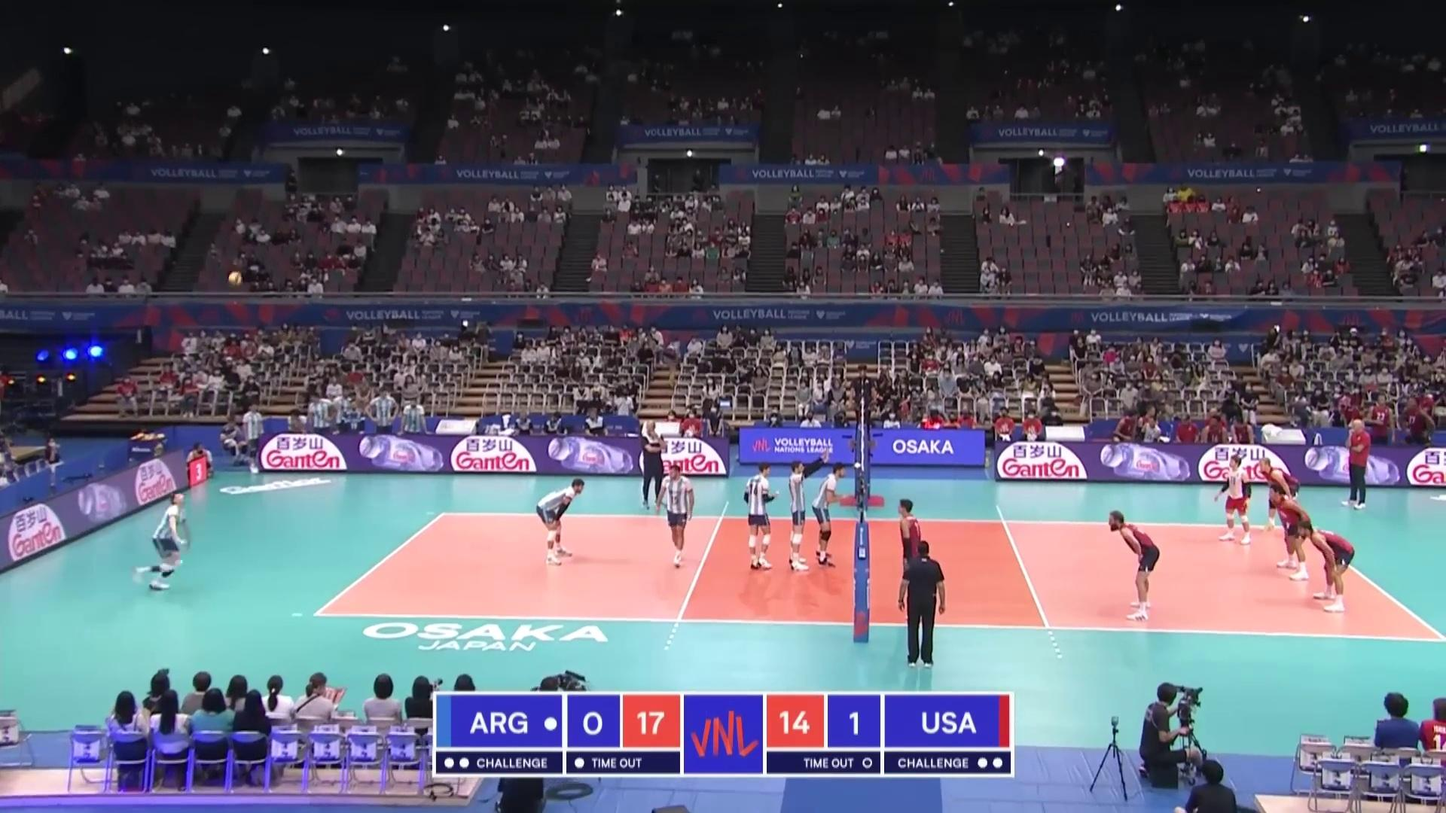player: (1106, 509, 1158, 620), (133, 493, 189, 590), (1299, 520, 1354, 613), (1267, 483, 1313, 580), (535, 479, 585, 564), (811, 462, 849, 567), (742, 462, 778, 572), (656, 466, 694, 569), (790, 457, 822, 573), (1215, 455, 1253, 548), (1258, 458, 1301, 535), (897, 499, 927, 606)
refree: (897, 540, 948, 667), (850, 364, 877, 442)
